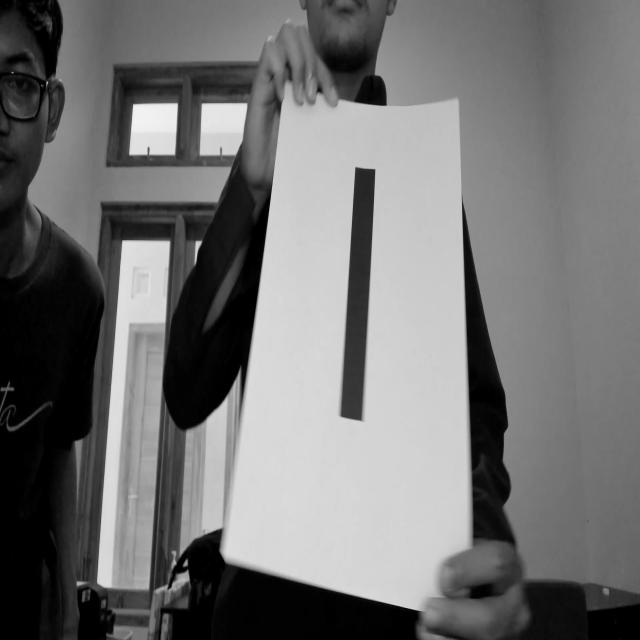i: (328, 145, 398, 465)
